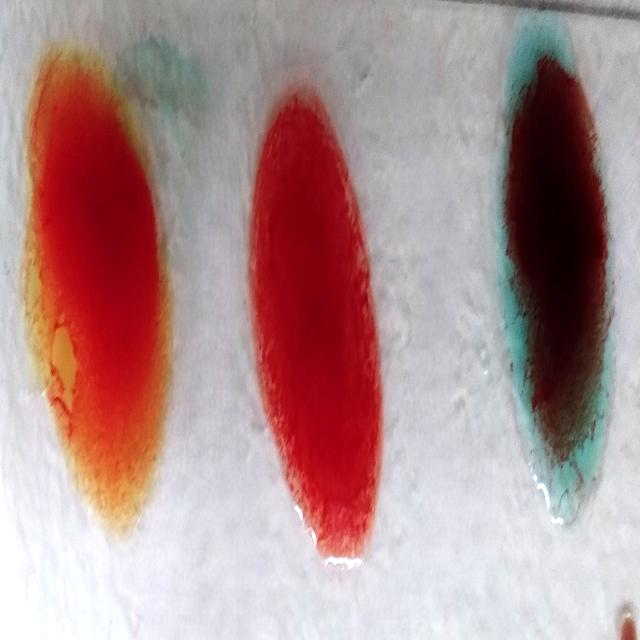A: (496, 25, 610, 515)
B: (21, 64, 172, 546)
D: (242, 74, 386, 566)
